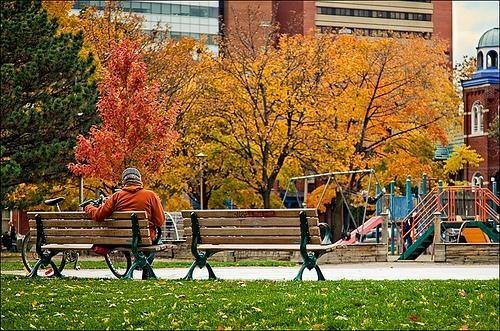bicycle: (19, 196, 132, 281)
